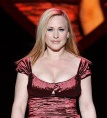female: (38, 8, 73, 56)
